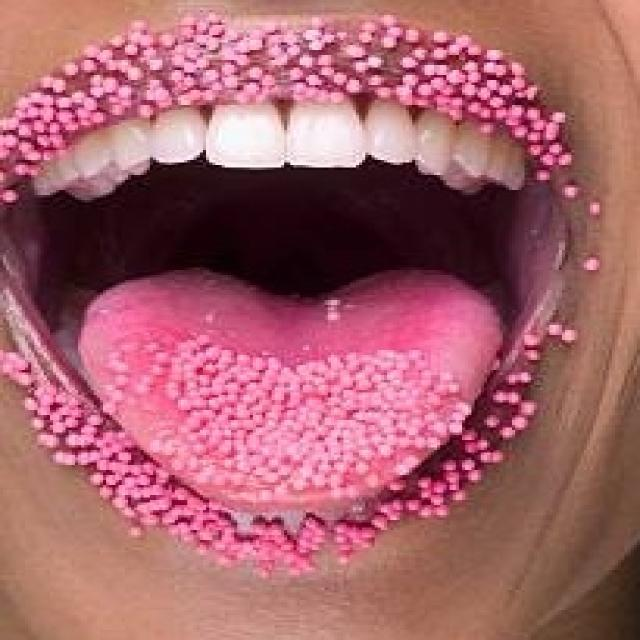open-mouth: (0, 8, 587, 578)
